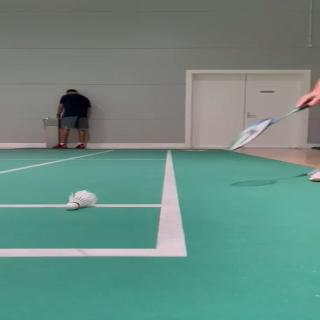Shuttle: (65, 190, 98, 210)
